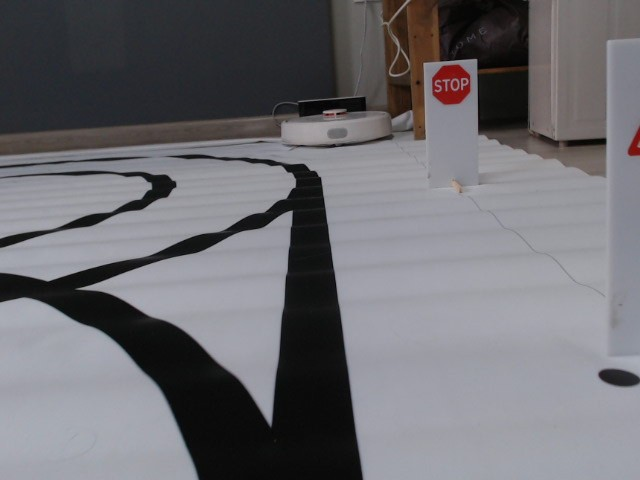Stop: (430, 63, 472, 105)
